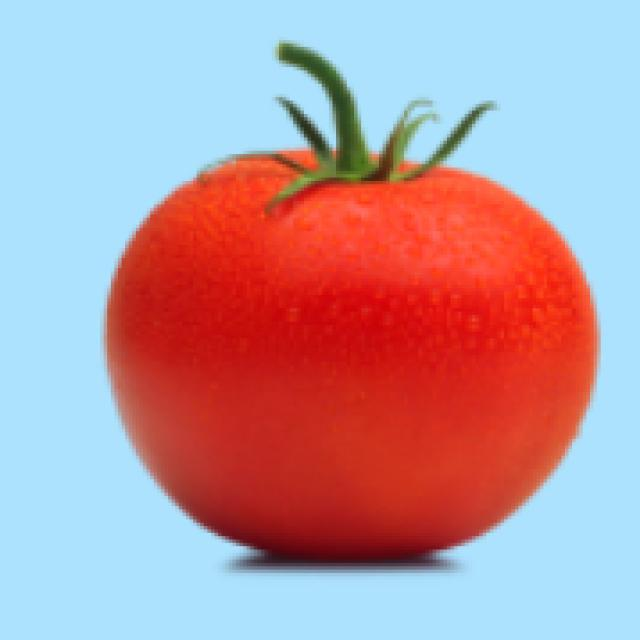Tomato: (70, 79, 602, 572)
